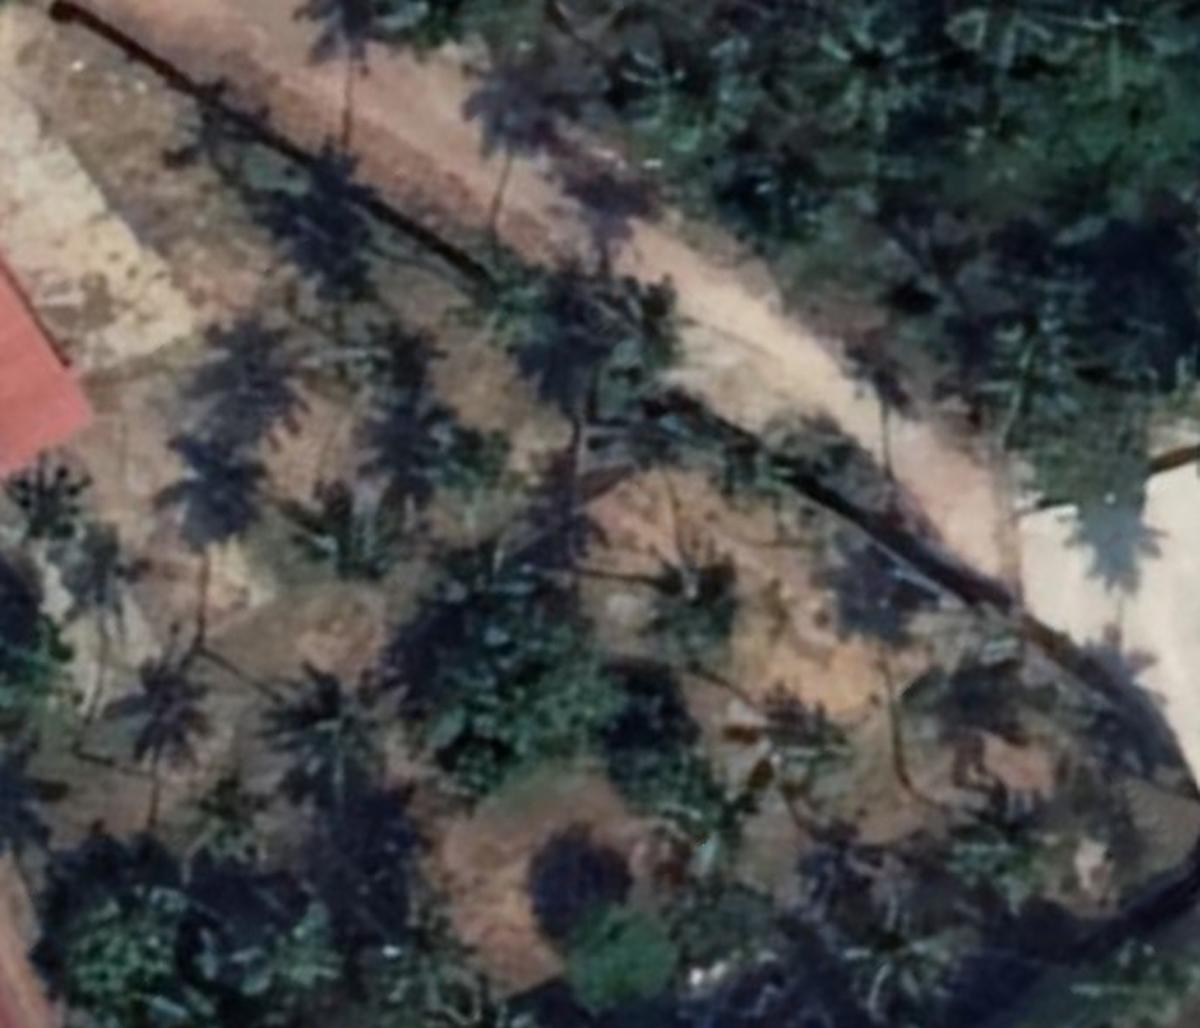coconut: (615, 32, 773, 169), (821, 892, 960, 1014), (289, 476, 414, 610), (641, 551, 771, 677), (802, 19, 931, 138), (279, 665, 400, 790), (209, 884, 332, 1000), (952, 781, 1063, 906), (979, 343, 1082, 445), (754, 707, 858, 804), (182, 781, 273, 866)
